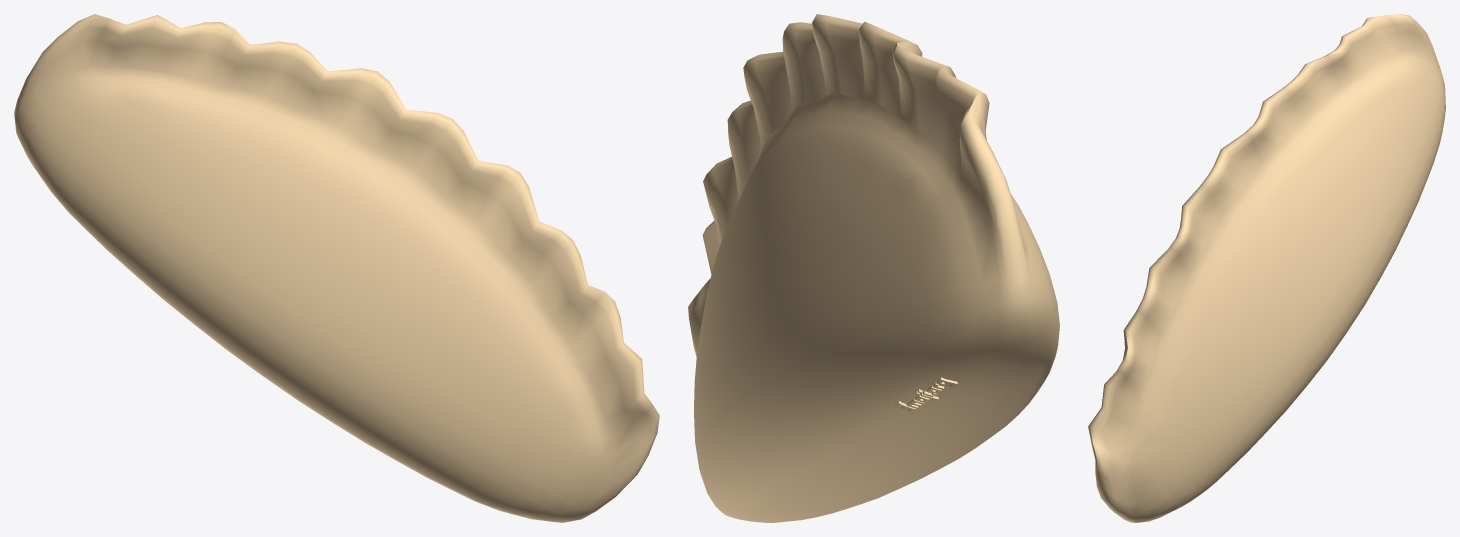
File: dumpling.glb
The picture shows the model from 3 angles, left to right: view 1: azimuth 30°, elevation 25°; view 2: azimuth 150°, elevation 25°; view 3: azimuth 270°, elevation 25°; orthographic projection. The views are drawn at different scales.
Visible parts, largest first — view 1: Cube.431; view 2: Cube.431; view 3: Cube.431.
Part boxes in pixels (<box>): Cube.431: <box>14,14,659,522</box>; Cube.431: <box>688,14,1059,522</box>; Cube.431: <box>1088,14,1445,522</box>.
Size of the model in its own units: 2.02 by 2.06 by 1.73.
Materials: 1 (1 with a texture image).
